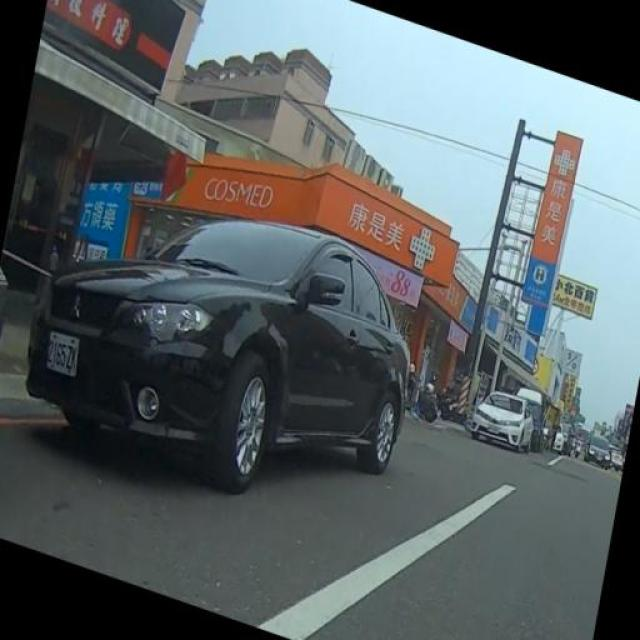Legalparking: (6, 185, 514, 496)
